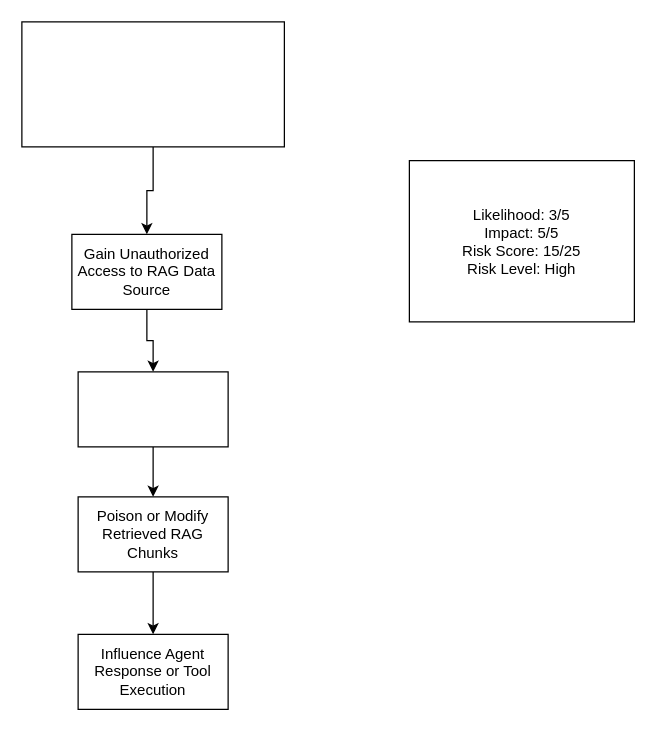
This 656x731 diagram has some shape labels left out. Here are the shapes that lost their labels. From the top down, the centre of each, then its label:
At pixel 152 84: "GOAL: RAG Chunk Poisoning to Manipulate AI Agent Behaviour".
At pixel 152 409: "Inject Malicious Content into Knowledge Source".
